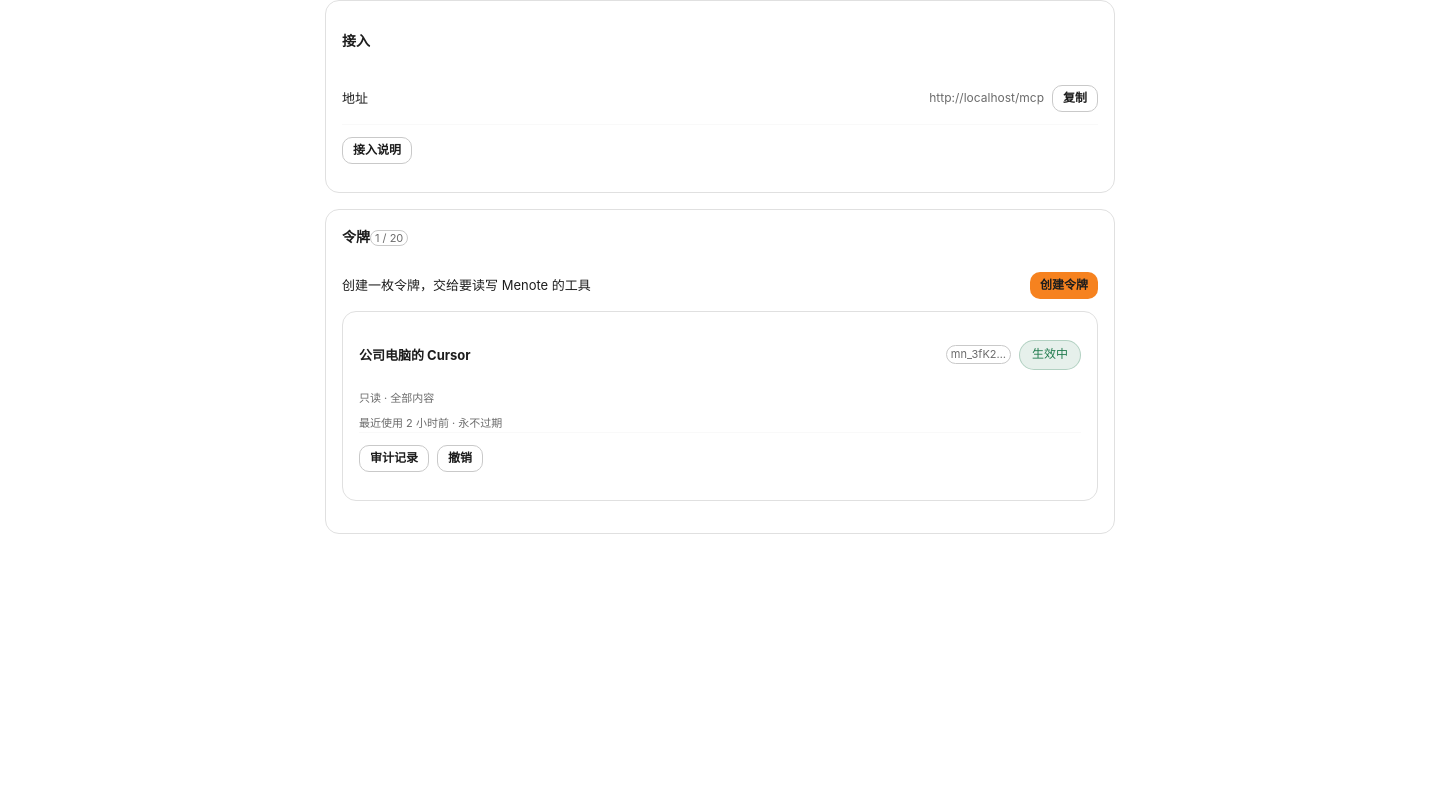
Scenario: 设置 › MCP：地址与接入说明 › 地址是 origin + /mcp；接入说明默认不平铺，点了才出来
This screenshot has width=1440, height=810.
Expected: the text "Cursor、Claude Code、Codex" is not shown
Click the button "接入说明".
click(377, 150)  # box top-left (342, 137), bottom-right (412, 164)
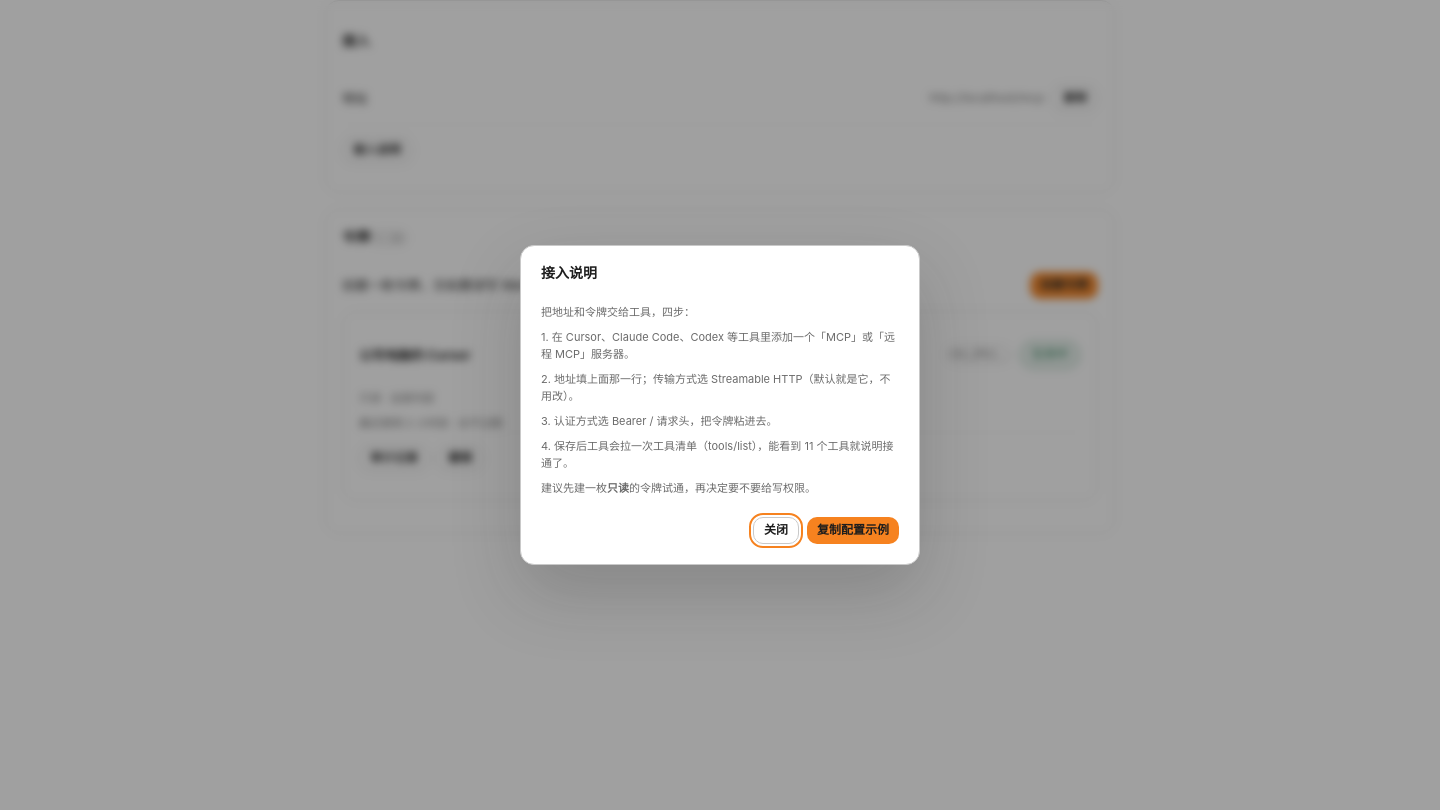
Expected: the text "1. 在 Cursor、Claude Code、Codex 等工具里添加一个「MCP」或「远程 MCP」服务器。" is shown, top-left (541, 329), bottom-right (899, 363)
